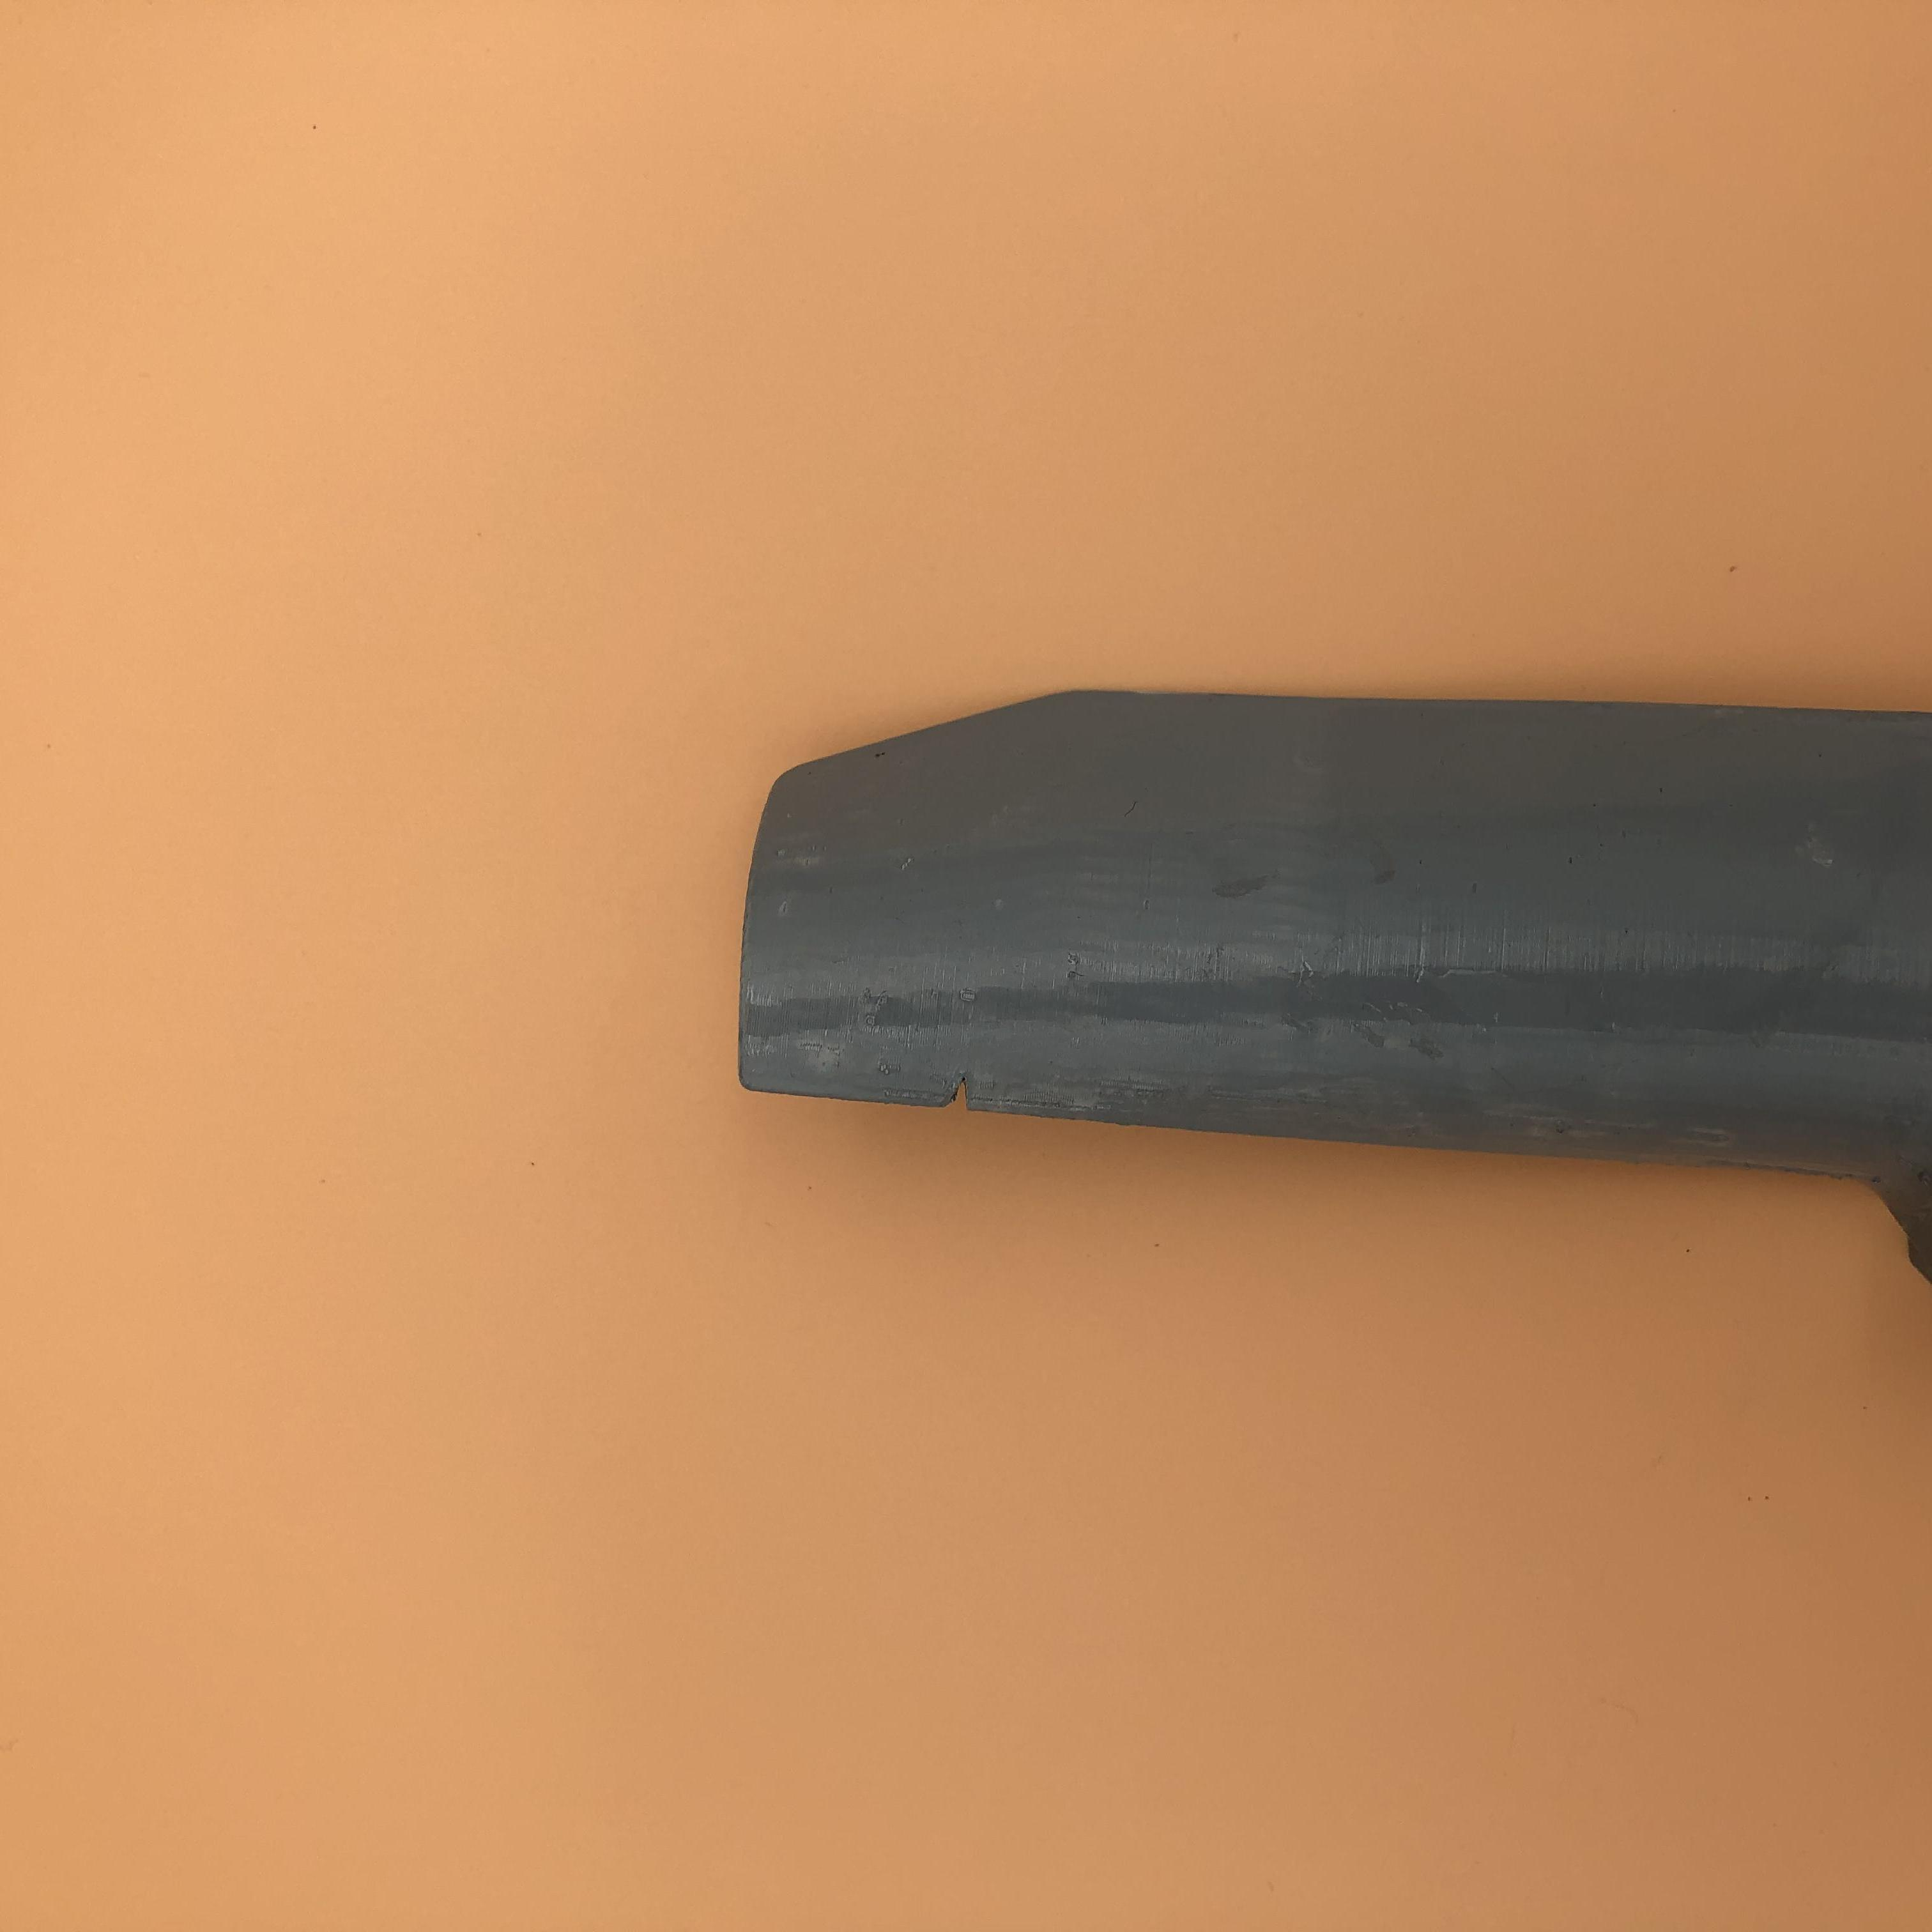groove: (931, 1065, 1003, 1109)
